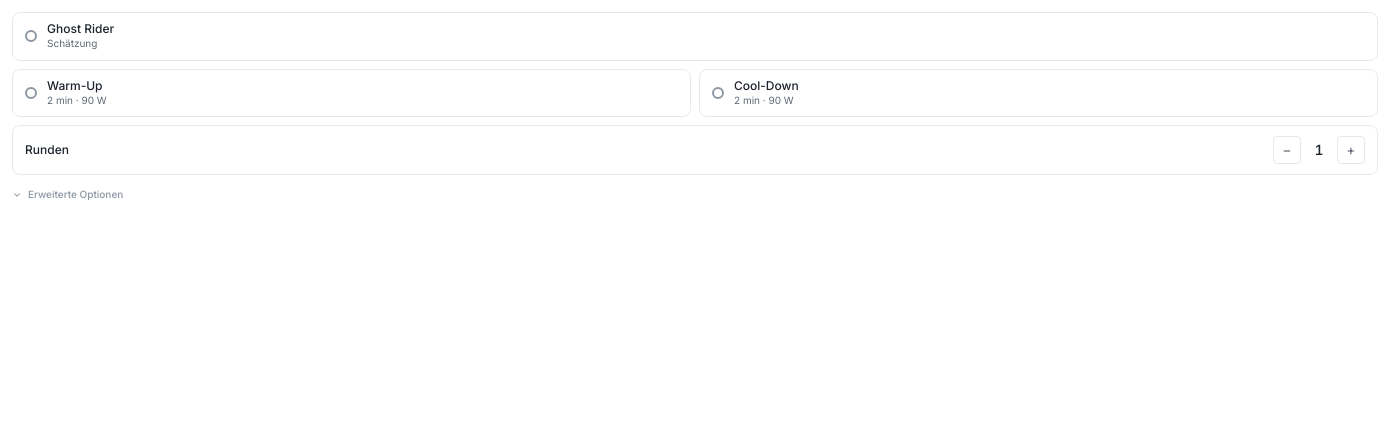
Test case: RideOptions › expands advanced options when disclosure button is clicked
The image size is (1390, 433).
What coordinates should you click on to do the following:
click the button "Erweiterte Optionen"
I would click on:
 (68, 194)
Its box is [12,183,123,206].
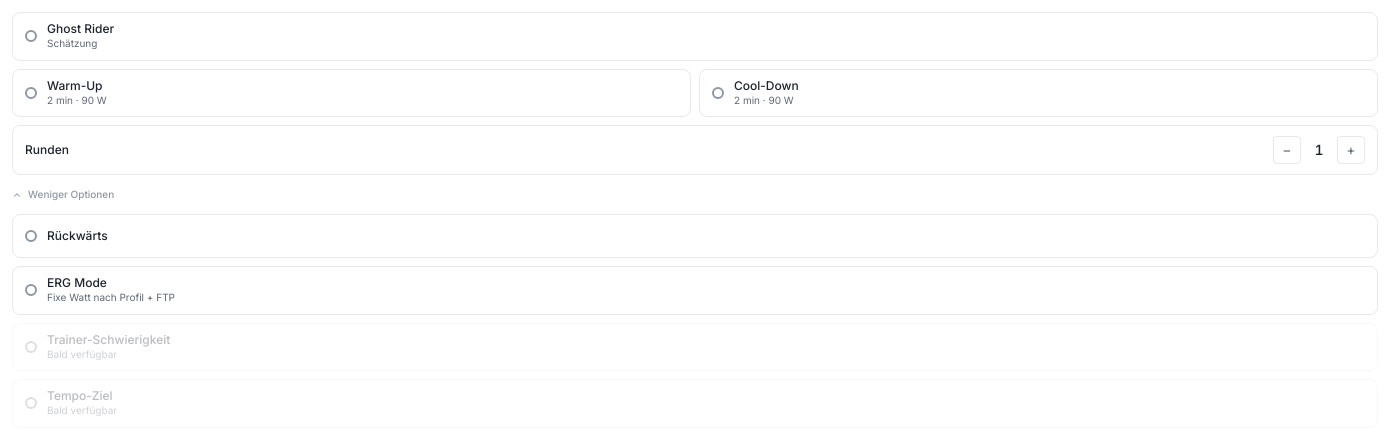
Expected: the button "Weniger Optionen" is shown, [12,183,114,206]
Expected: the text "Rückwärts" is shown, [47,230,108,242]
Expected: the text "ERG Mode" is shown, [47,275,107,290]
